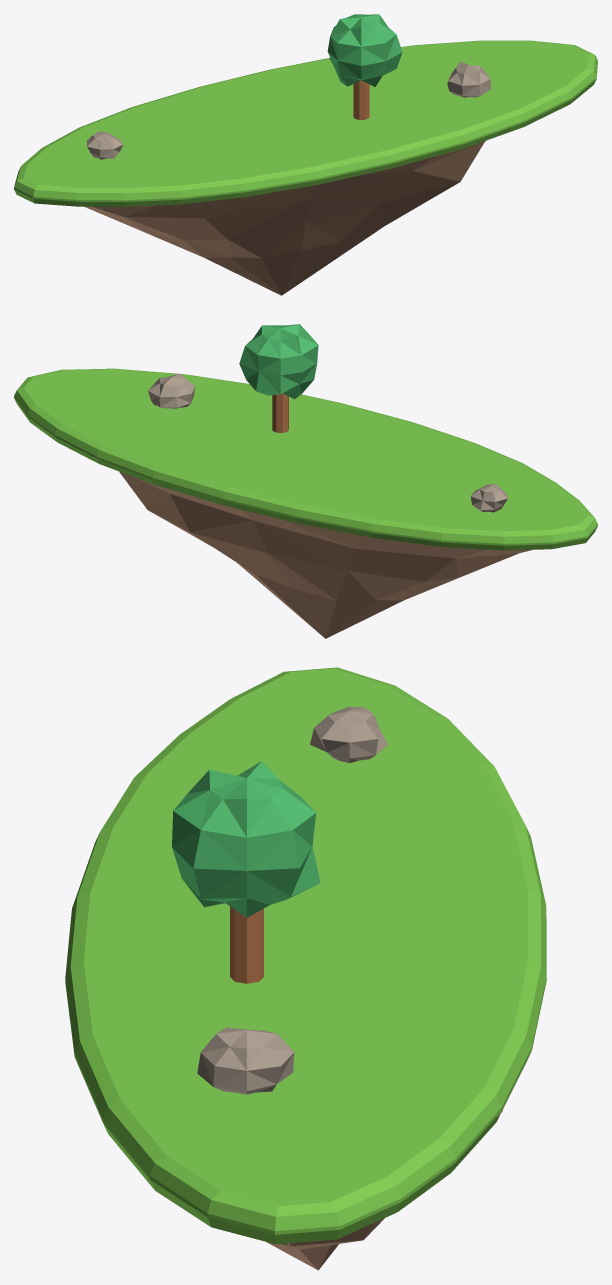
Rendered from island_long.obj.
3 views of the same model, one above another, from view 1: azimuth 30°, elevation 25°; view 2: azimuth 150°, elevation 25°; view 3: azimuth 270°, elevation 25° (orthographic). The views are drawn at different scales.
Size of the model in its own units: 31.91 by 14.84 by 11.72.
